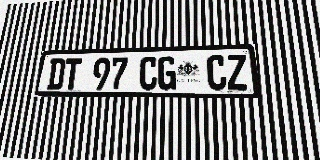7: (109, 57, 128, 90)
9: (92, 57, 111, 90)
C: (206, 55, 227, 90), (139, 56, 158, 90)
D: (46, 58, 66, 90)
G: (157, 56, 176, 90)
T: (62, 58, 82, 90)
Z: (226, 54, 248, 90)
